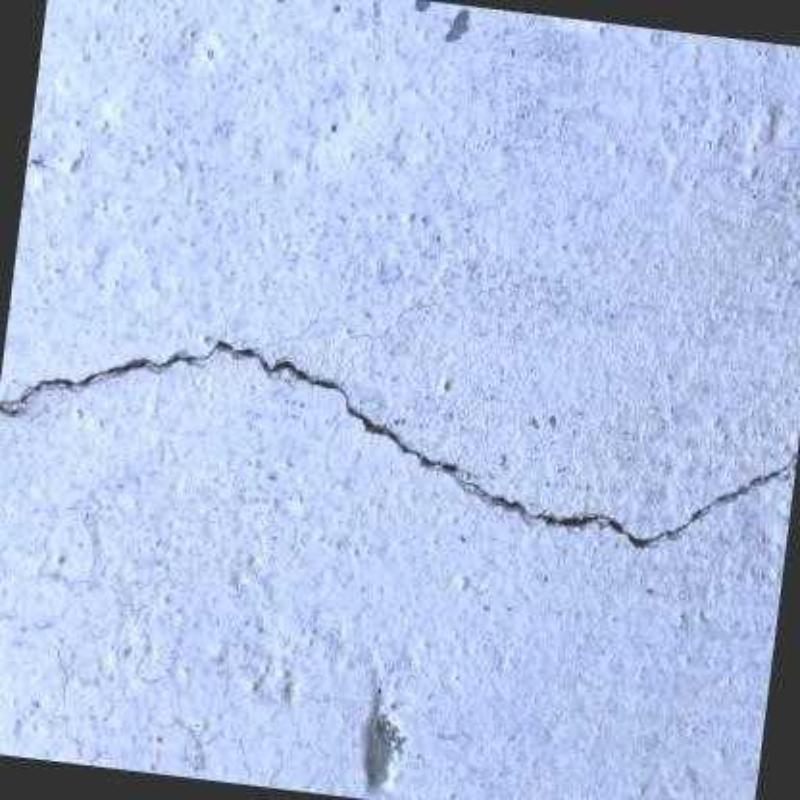pothole: (0, 333, 789, 555)
